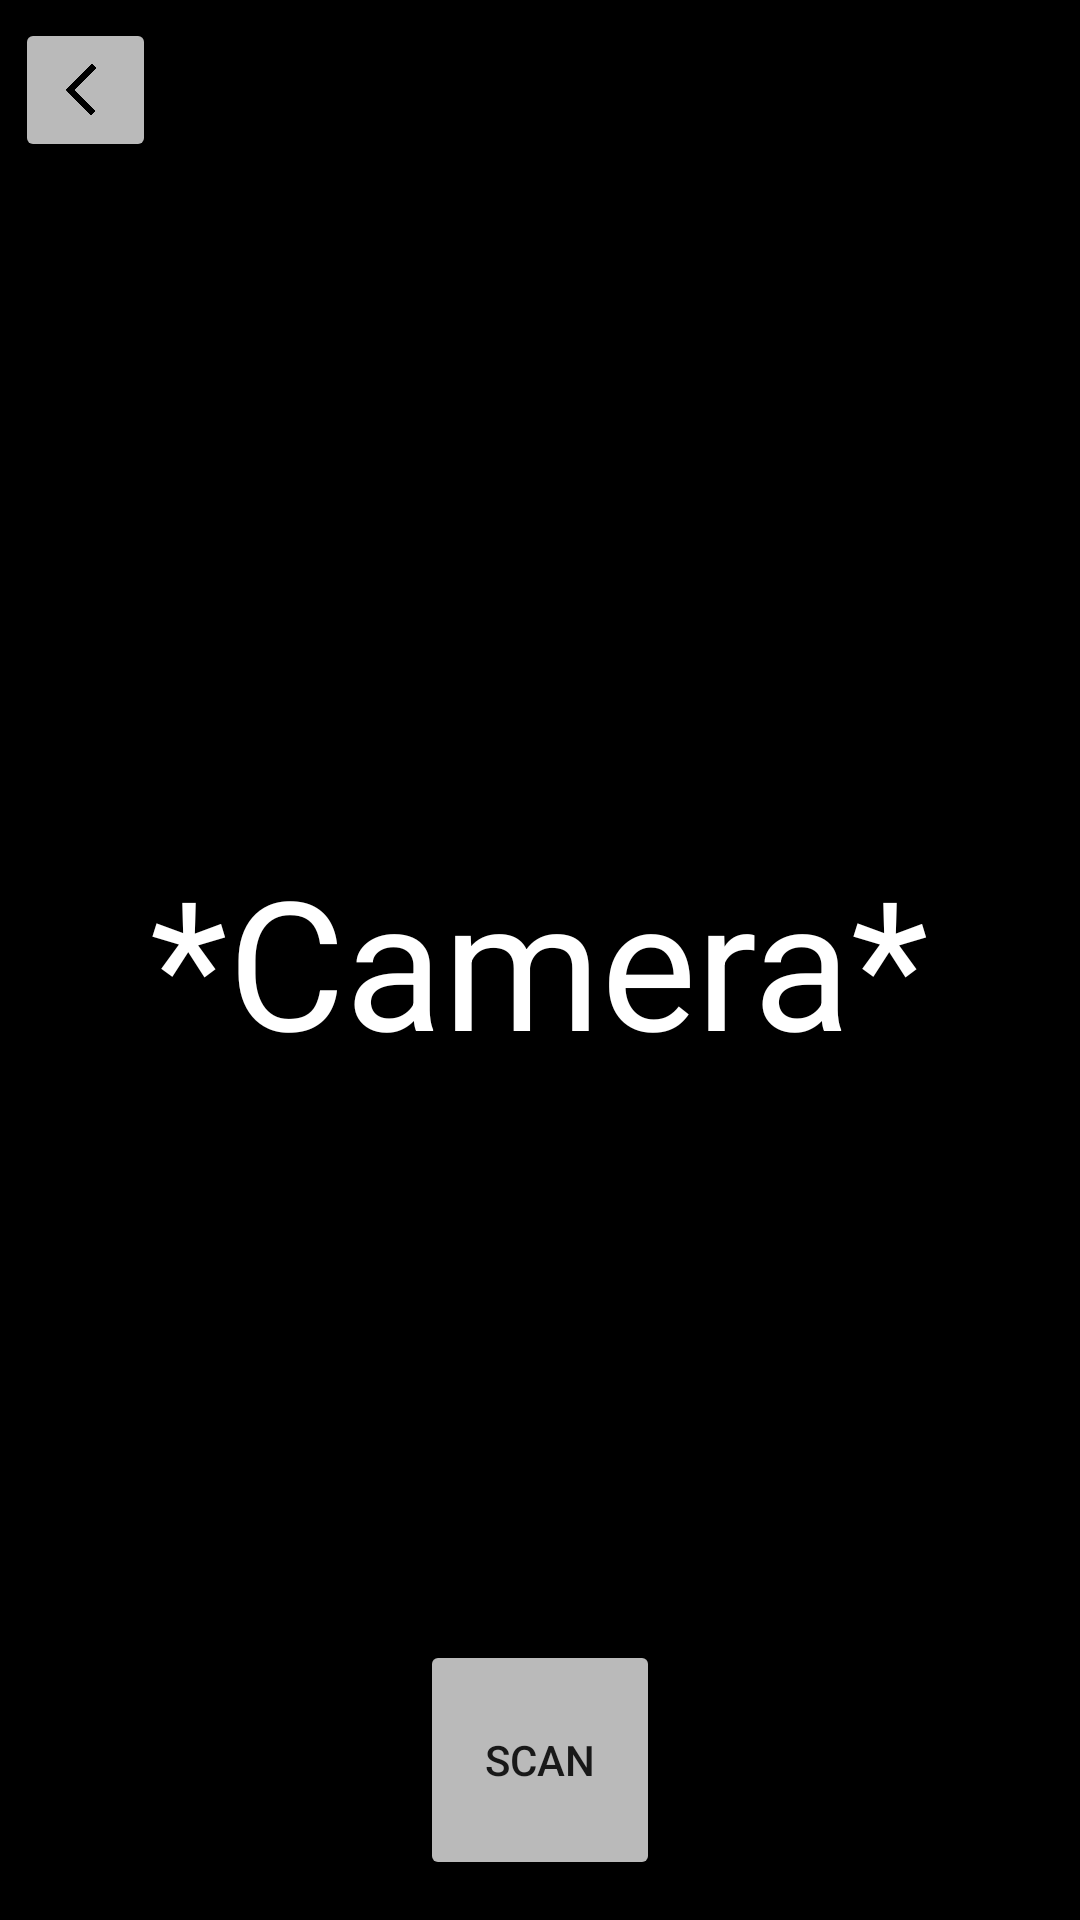

Screen size 1080px×1920px. Icon name, then its box in pixels as (x1, y1, x2, y2):
backicon: (27, 36, 144, 144)
